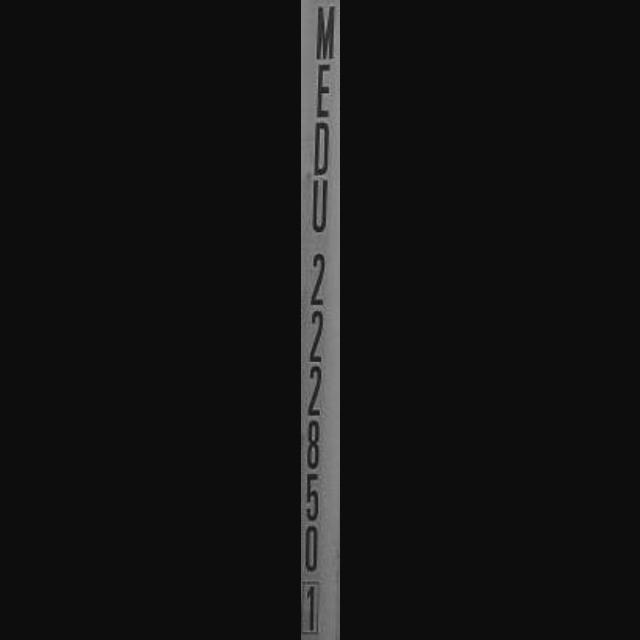0: (300, 522, 334, 578)
1: (300, 580, 334, 634)
2: (300, 241, 340, 309), (300, 361, 340, 419), (300, 309, 340, 365)
5: (300, 466, 340, 522)
8: (300, 414, 340, 464)
d: (307, 115, 339, 179)
e: (305, 56, 339, 120)
m: (308, 1, 339, 64)
u: (304, 175, 338, 238)
